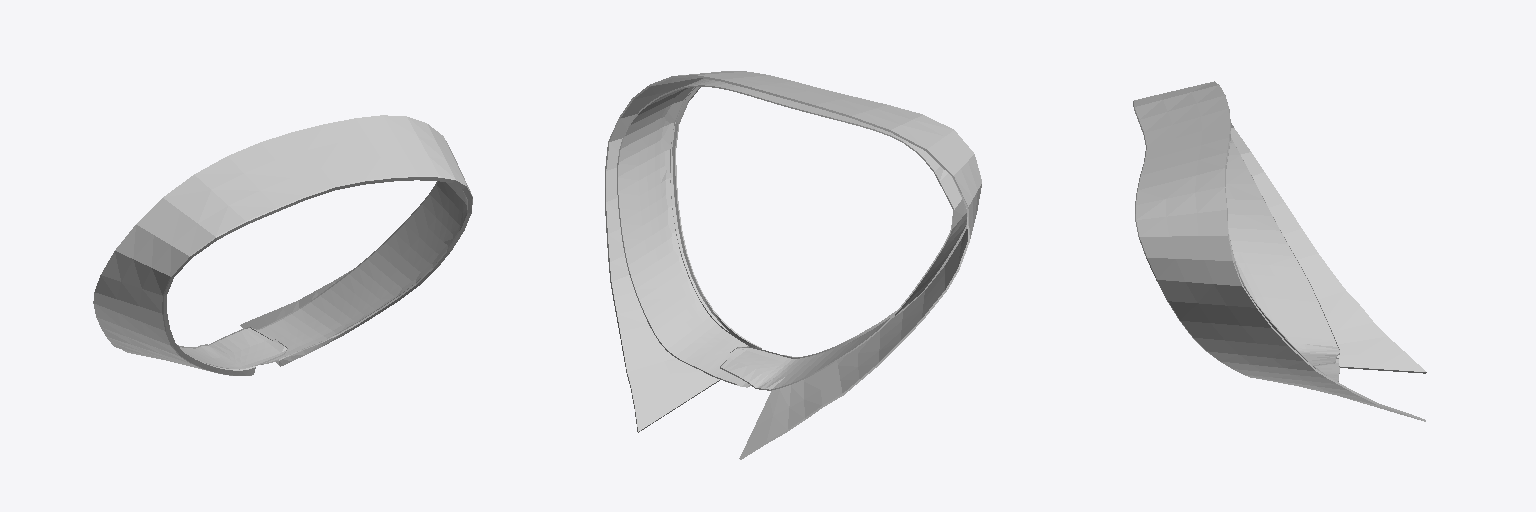
File: low_reguler.obj
3 renders of one model, left to right at view 1: azimuth 30°, elevation 25°; view 2: azimuth 150°, elevation 25°; view 3: azimuth 270°, elevation 25°, orthographic.
Parts seen in each view (by area): view 1: 15_low_regular, inner_collar_out; view 2: 15_low_regular, inner_collar_out; view 3: 15_low_regular, inner_collar_out.
Boxes of the visible parts, <box> form: 15_low_regular: <box>93,115,472,375</box>; inner_collar_out: <box>178,181,466,369</box>; 15_low_regular: <box>605,71,981,459</box>; inner_collar_out: <box>617,79,966,390</box>; 15_low_regular: <box>1133,81,1426,421</box>; inner_collar_out: <box>1225,131,1339,381</box>.
Size of the model in its own units: 17.81 by 13.32 by 12.68.